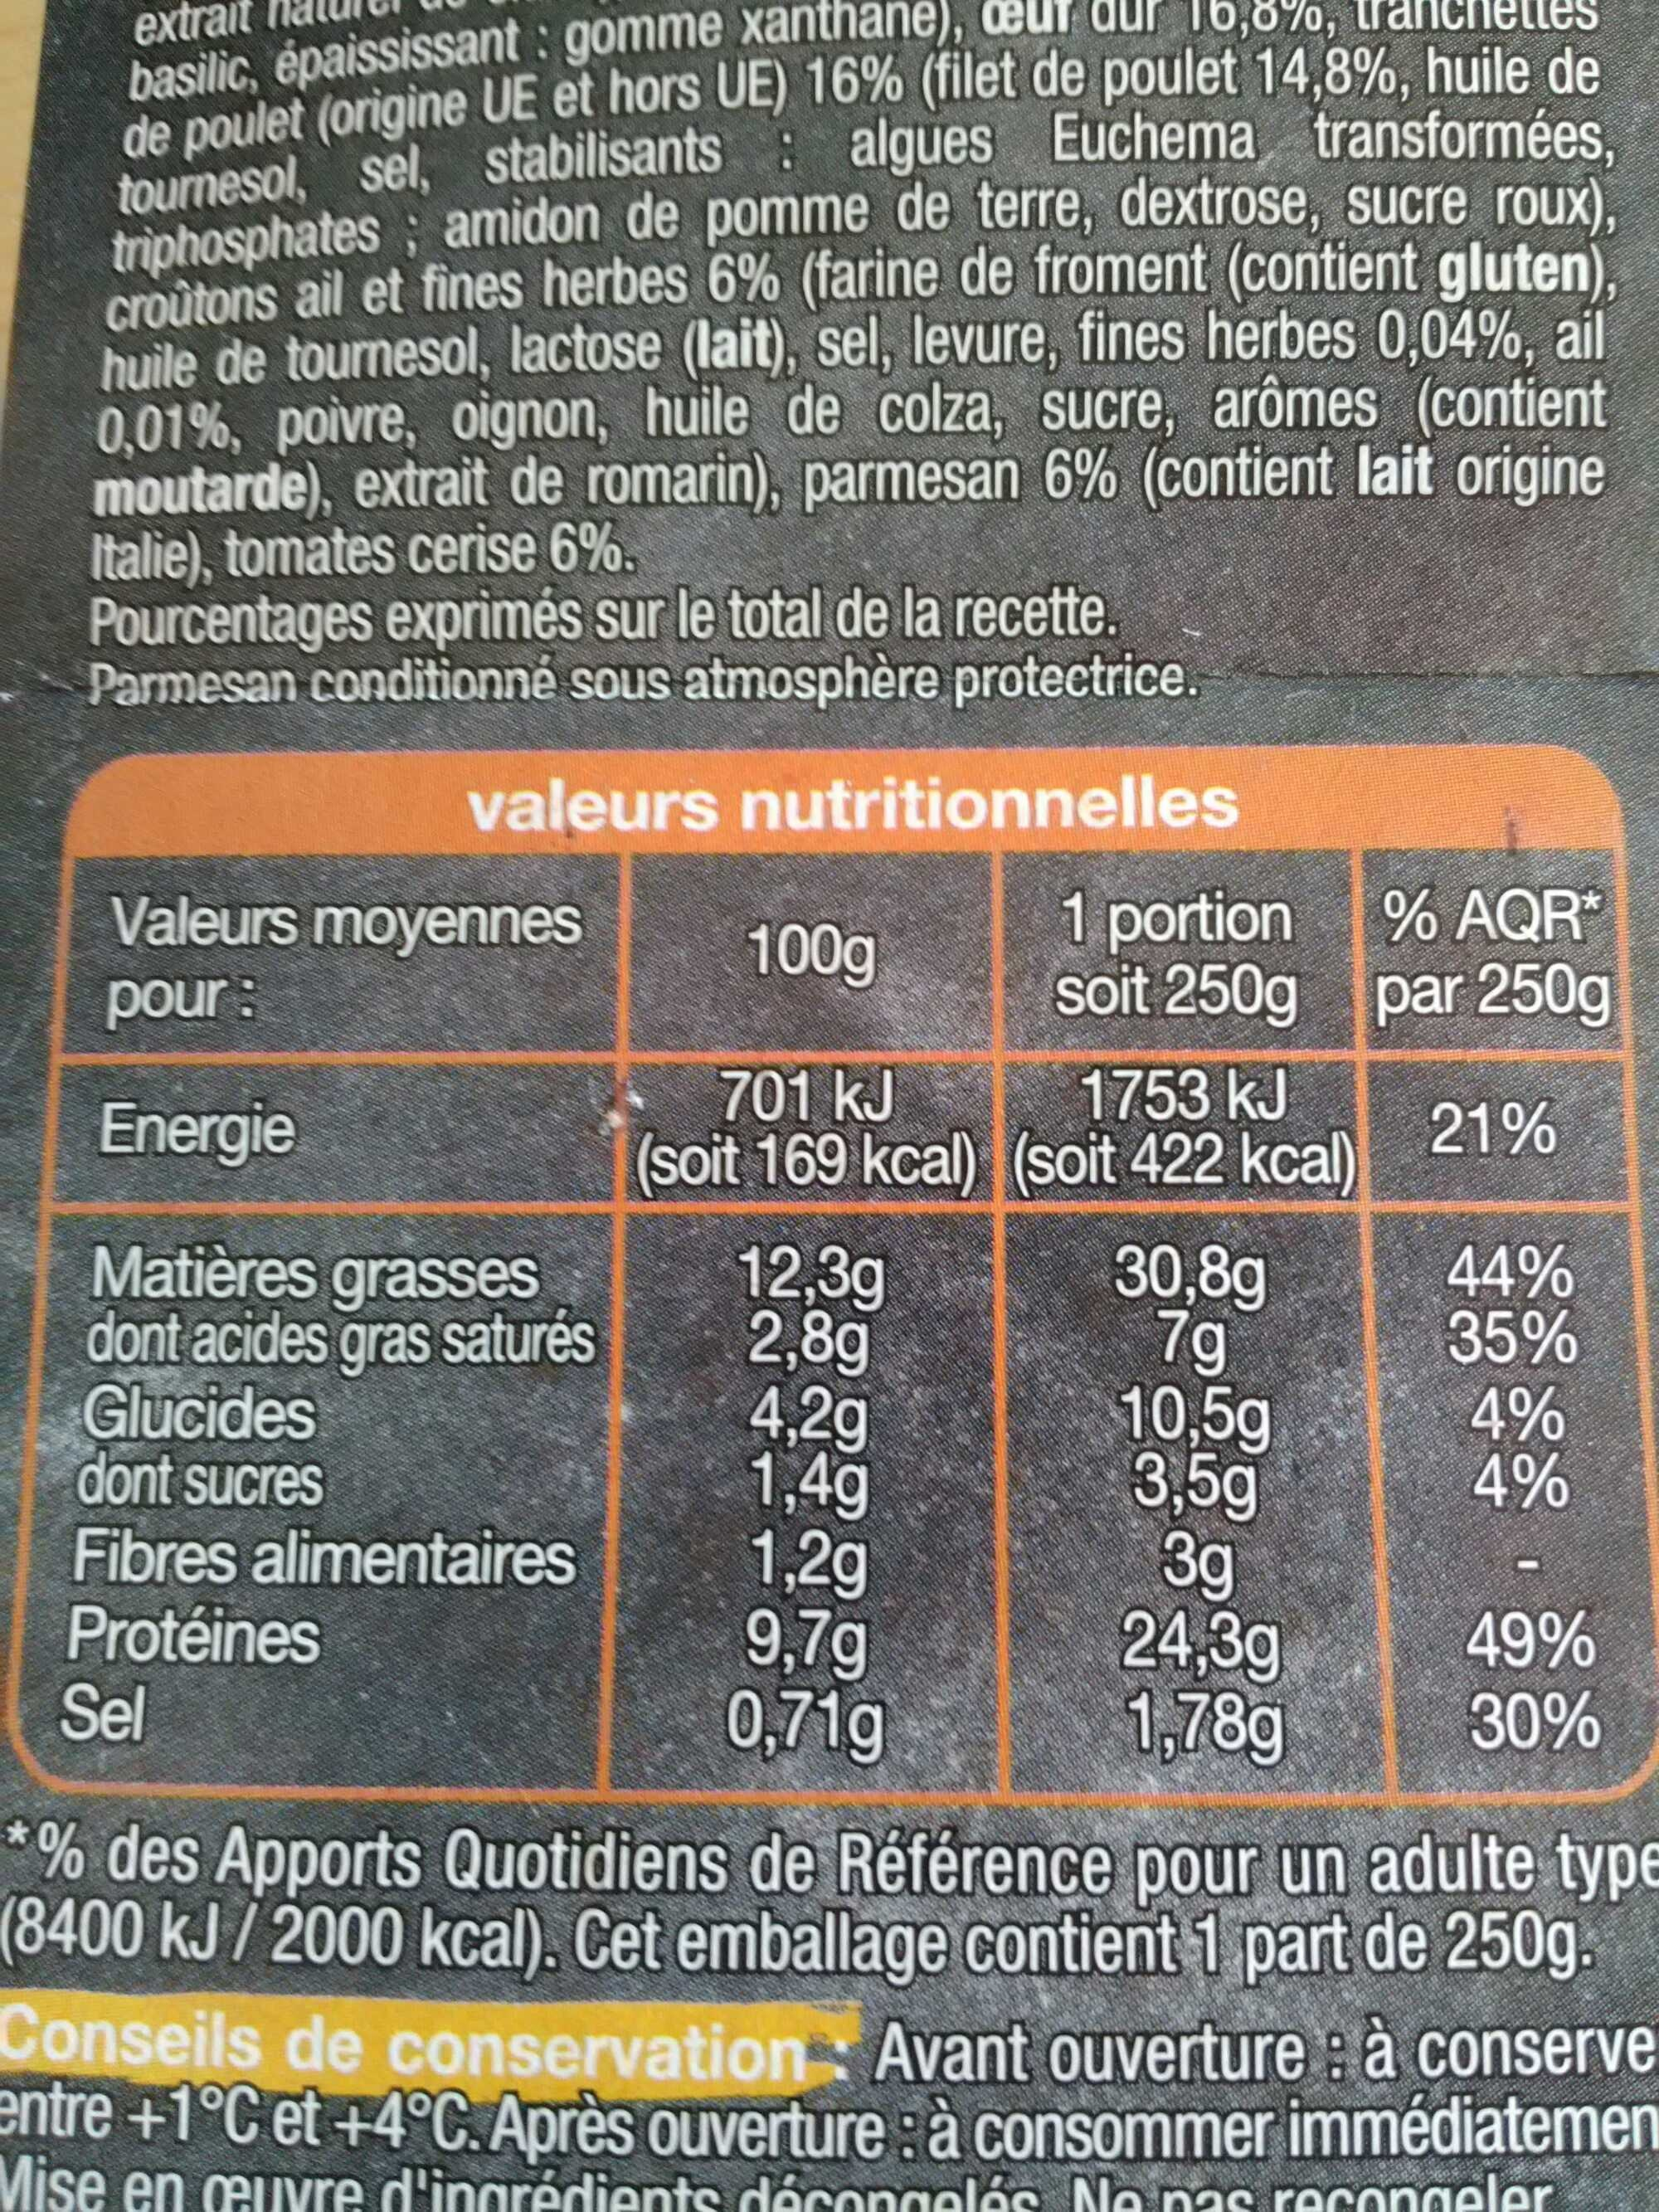column: (68, 879, 596, 1761), (1014, 875, 1359, 1768), (641, 879, 979, 1768), (1380, 872, 1619, 1768)
table: (23, 737, 1647, 1792)
